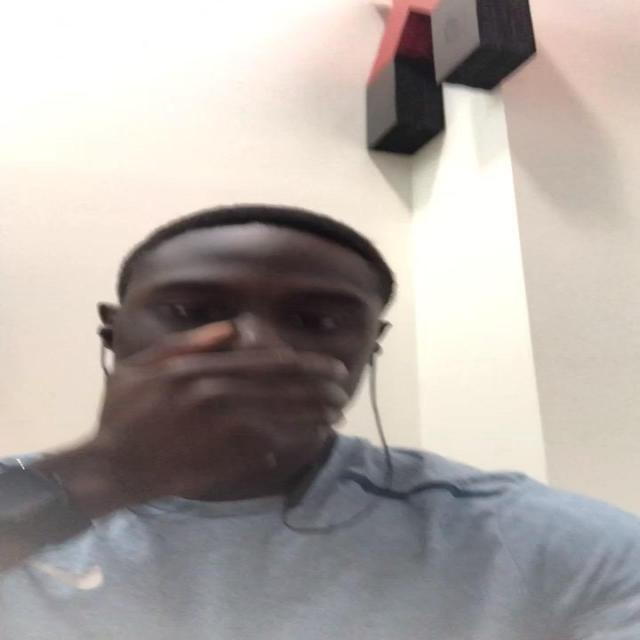face: (108, 244, 392, 444)
